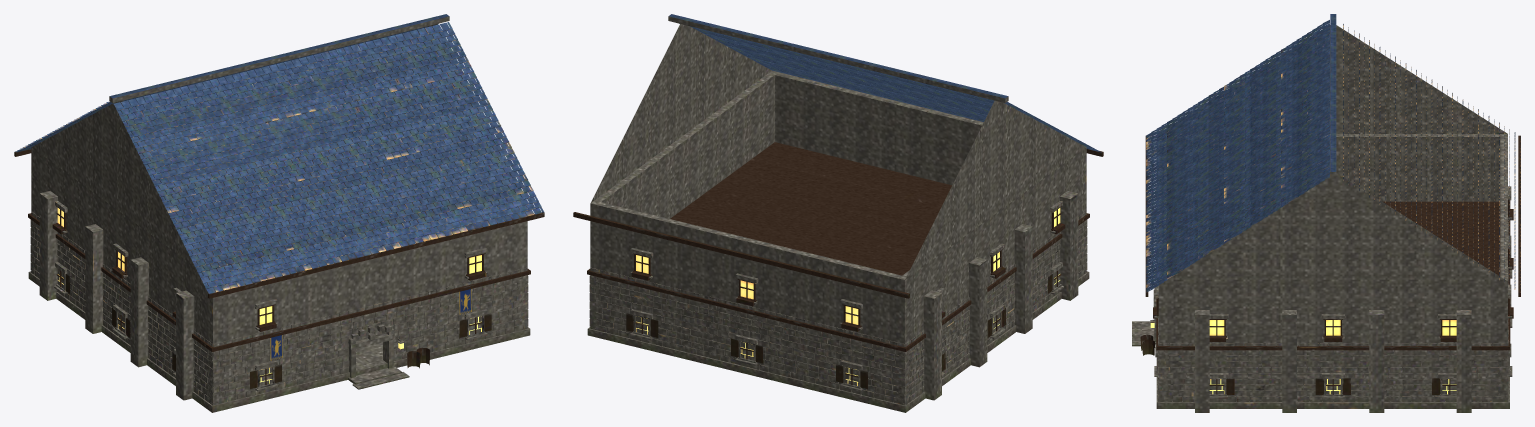
The model's file is bld_library_card.glb.
3 views of the same model, side by side, from view 1: azimuth 30°, elevation 25°; view 2: azimuth 150°, elevation 25°; view 3: azimuth 270°, elevation 25° (orthographic). The views are drawn at different scales.
Visible parts, largest first — view 1: library_card; view 2: library_card; view 3: library_card.
Part boxes in pixels (x1,y1,x2,y2): library_card: [14, 14, 544, 412]; library_card: [573, 14, 1103, 412]; library_card: [1132, 14, 1520, 412].
Size of the model in its own units: 38.25 by 27.2 by 39.75.
Materials: 1 (1 with a texture image).
